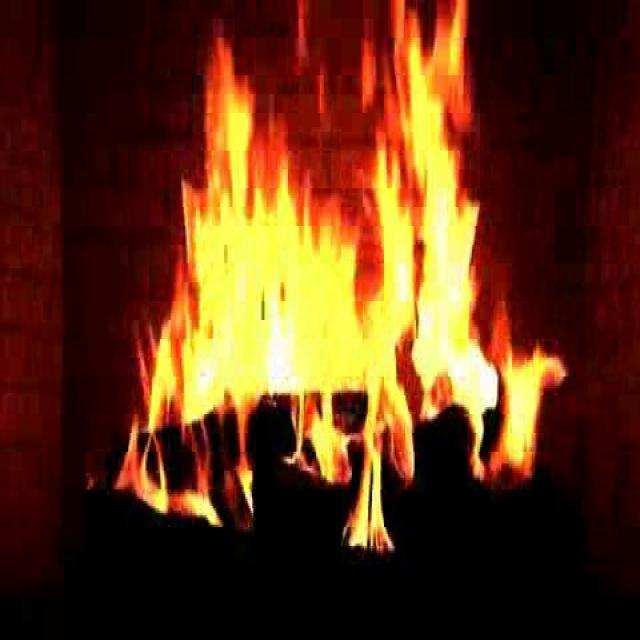Fire: (132, 29, 557, 534)
